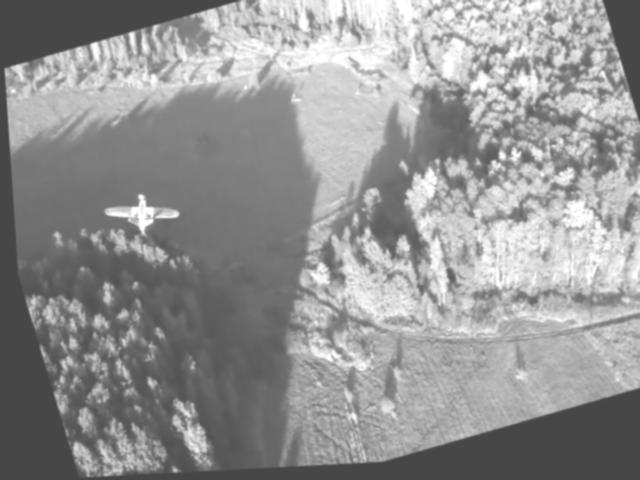hedef: (93, 173, 186, 251)
